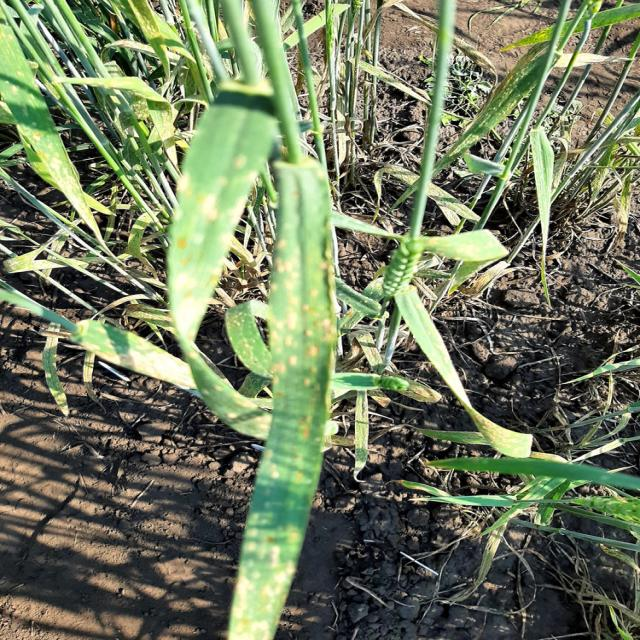wheat-powdery-mildew: (73, 93, 277, 441), (228, 157, 337, 640), (0, 23, 102, 243)
